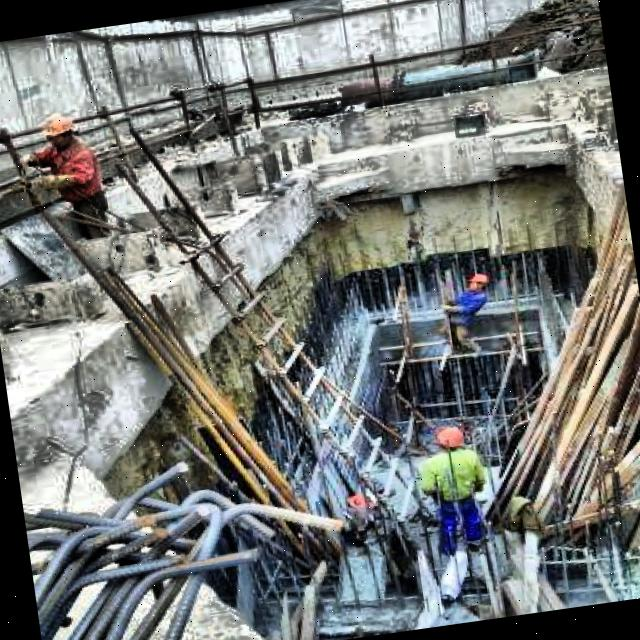helmet: (39, 104, 90, 158), (428, 420, 474, 463), (459, 262, 496, 303)
